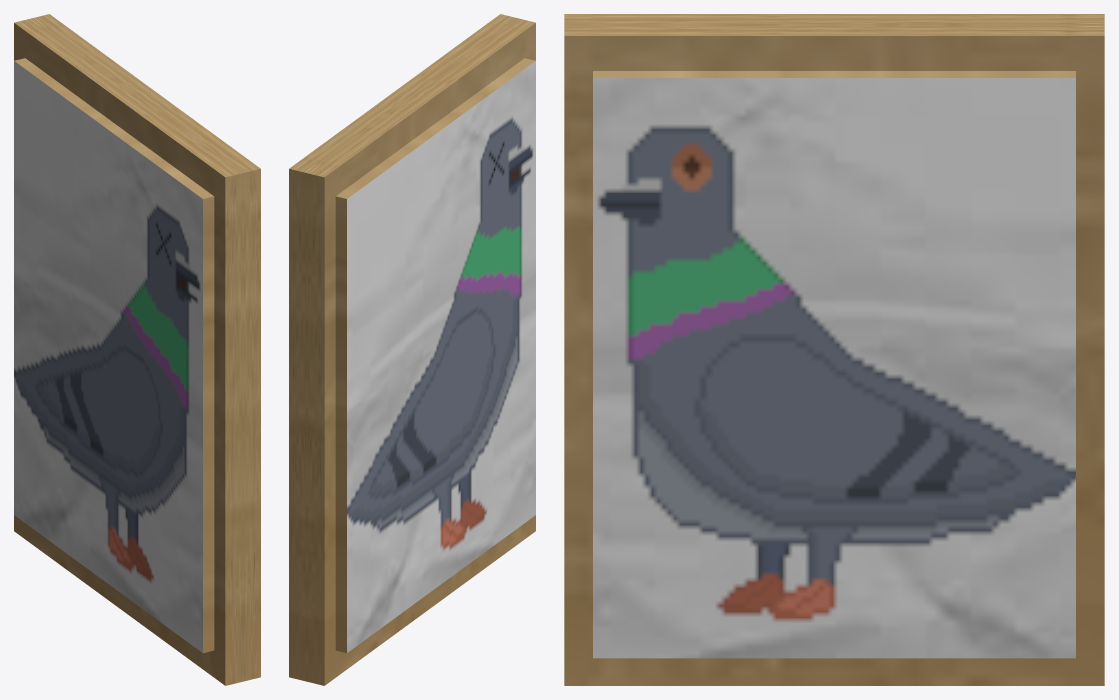
File: Pigeon walking.fbx
The picture shows the model from 3 angles, left to right: view 1: azimuth 30°, elevation 25°; view 2: azimuth 150°, elevation 25°; view 3: azimuth 270°, elevation 25°; orthographic projection. The views are drawn at different scales.
Visible parts, largest first — view 1: Cube; view 2: Cube; view 3: Cube.
Part boxes in pixels (x1,y1,x2,y2): Cube: (14,14,260,685); Cube: (289,14,535,685); Cube: (564,14,1104,685).
Bounding box in the file's own units: 52.27 × 438 × 330.
